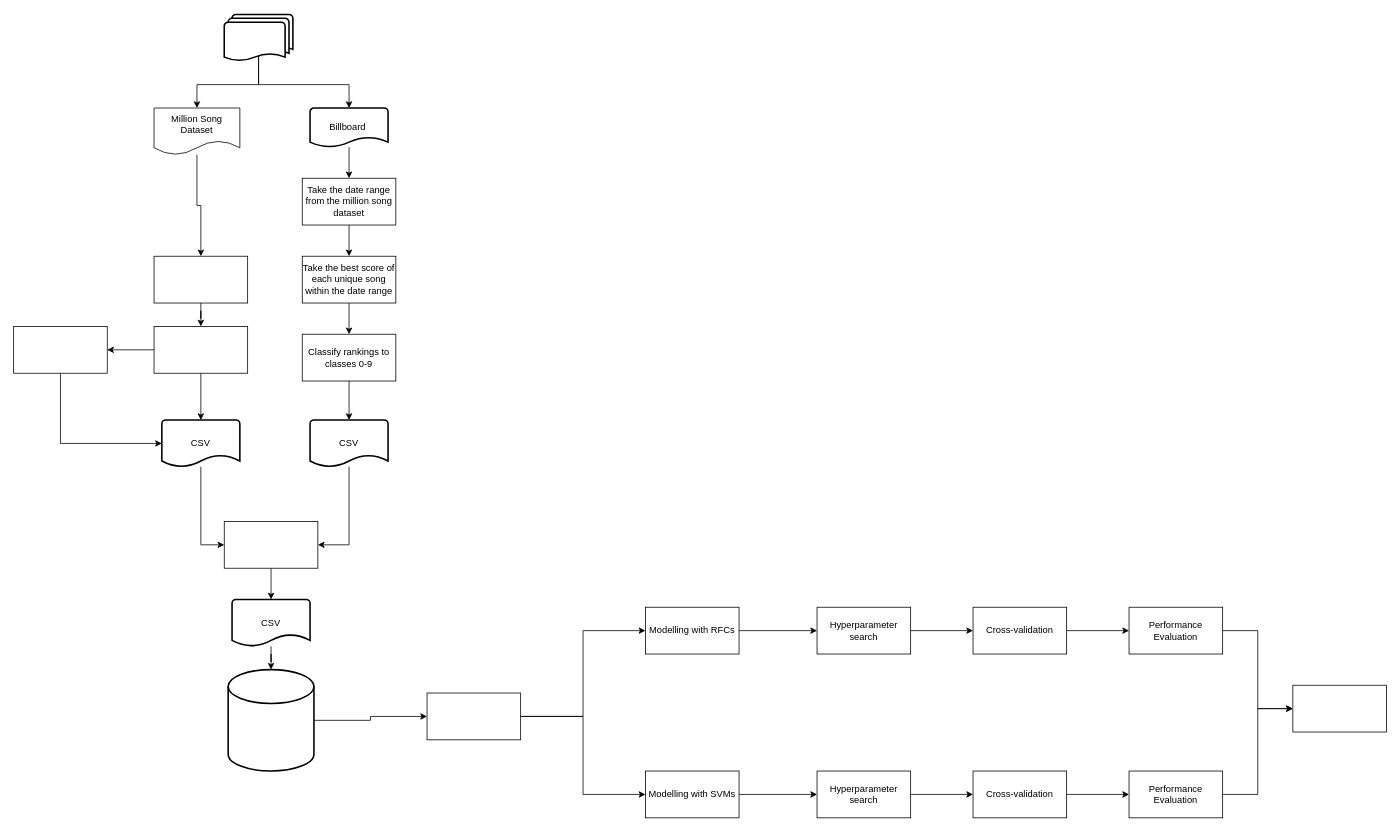
Some shapes in this 1400 by 831 pixel diagram are drawn without their labels. The centre of each missing label's shape, as x and y in pixels:
"Aggregate Performance Evaluation" goes at point (1339, 708).
"Cleaned data" goes at point (270, 719).
"Drop features that are not needed" goes at point (200, 279).
"Drop songs that are missing features" goes at point (200, 349).
"If there's time, extrapolate features based on similar songs" goes at point (60, 349).
"Join the tables together and classify unranked songs not on Billboard" goes at point (270, 544).
"Raw data" goes at point (258, 37).
"Splitting data to train-test-validation splits" goes at point (473, 716).
